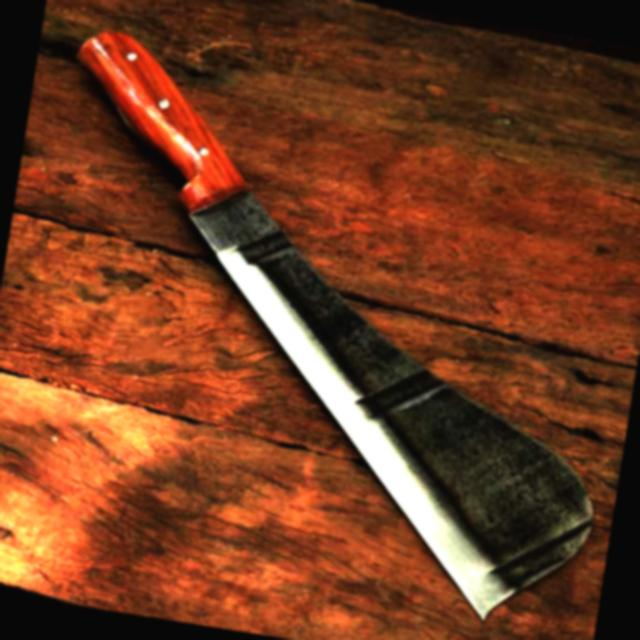eto: (65, 23, 606, 630)
